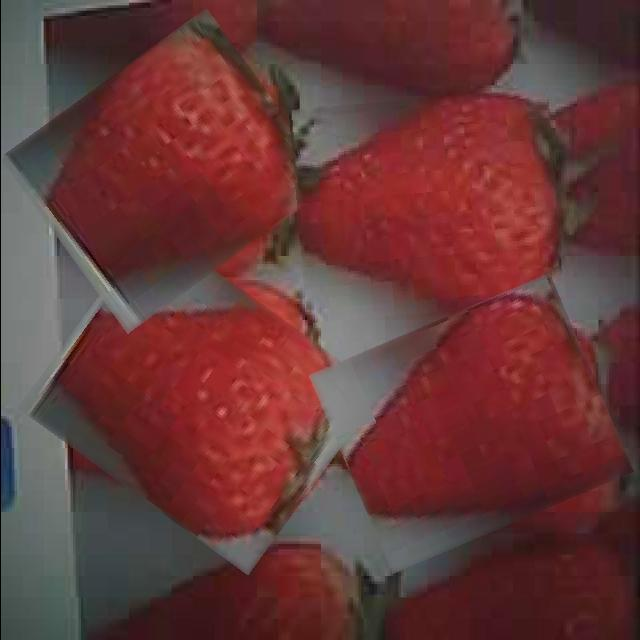strawberry: (37, 255, 360, 545), (18, 35, 314, 308), (323, 295, 618, 553), (292, 94, 560, 318)
